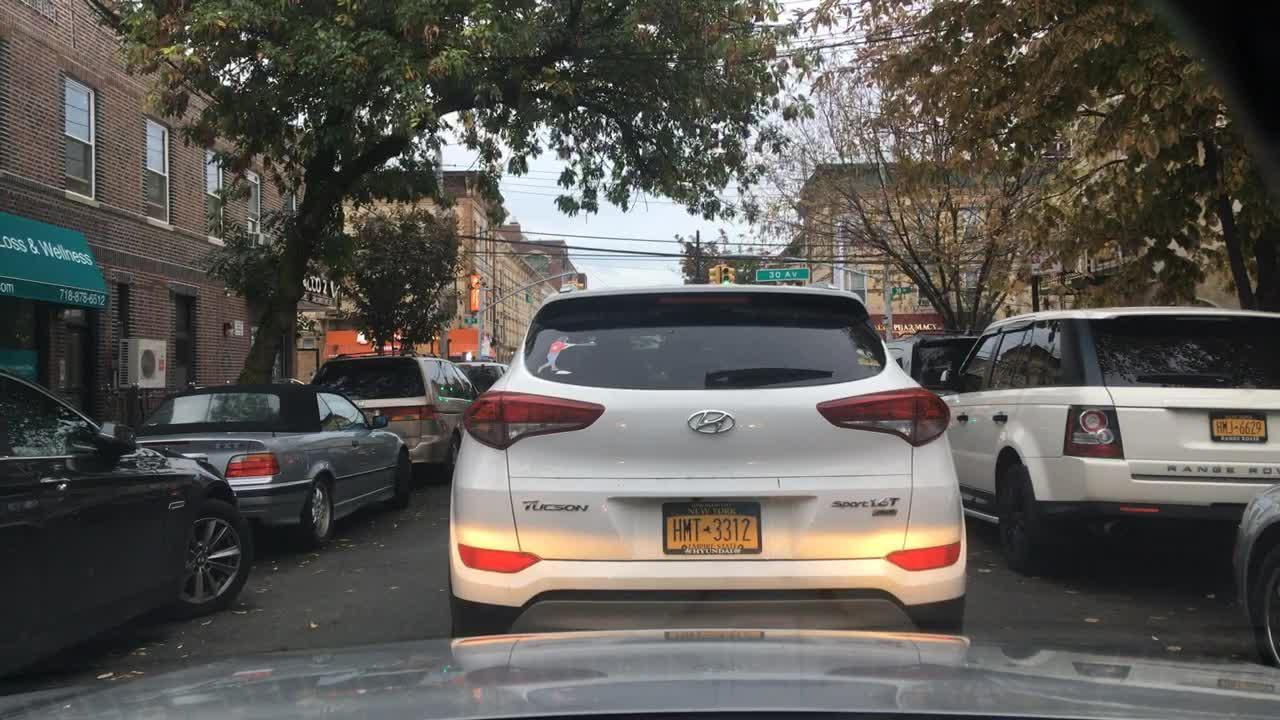Hyundai: (675, 405, 757, 453)
